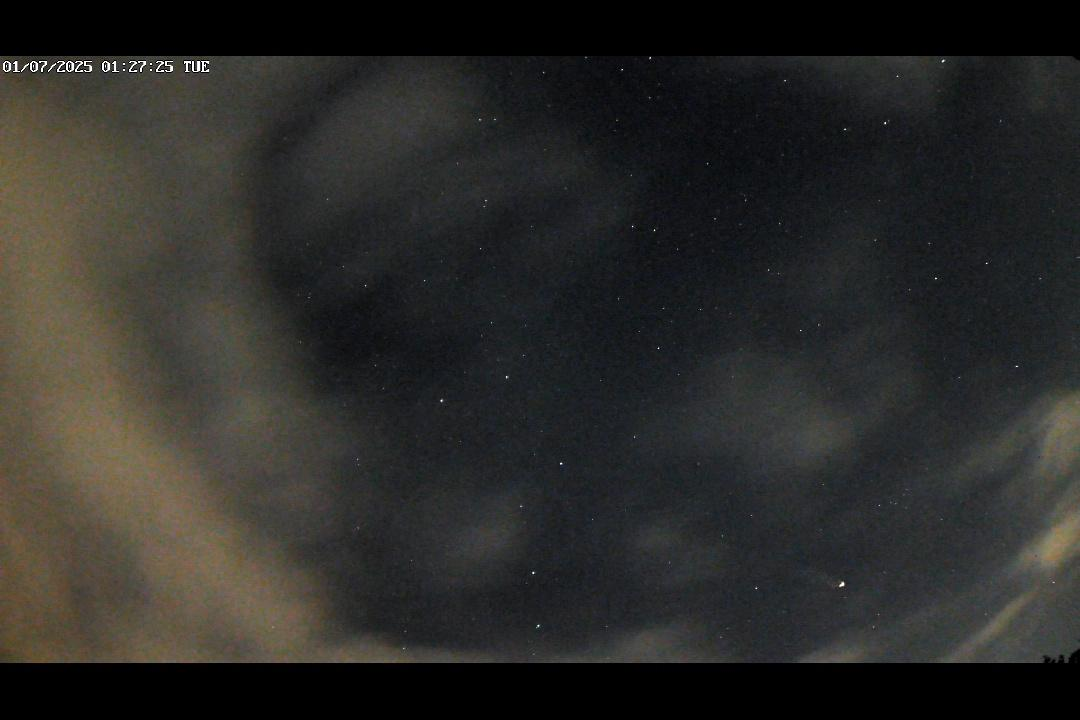Plane: (808, 571, 852, 593)
